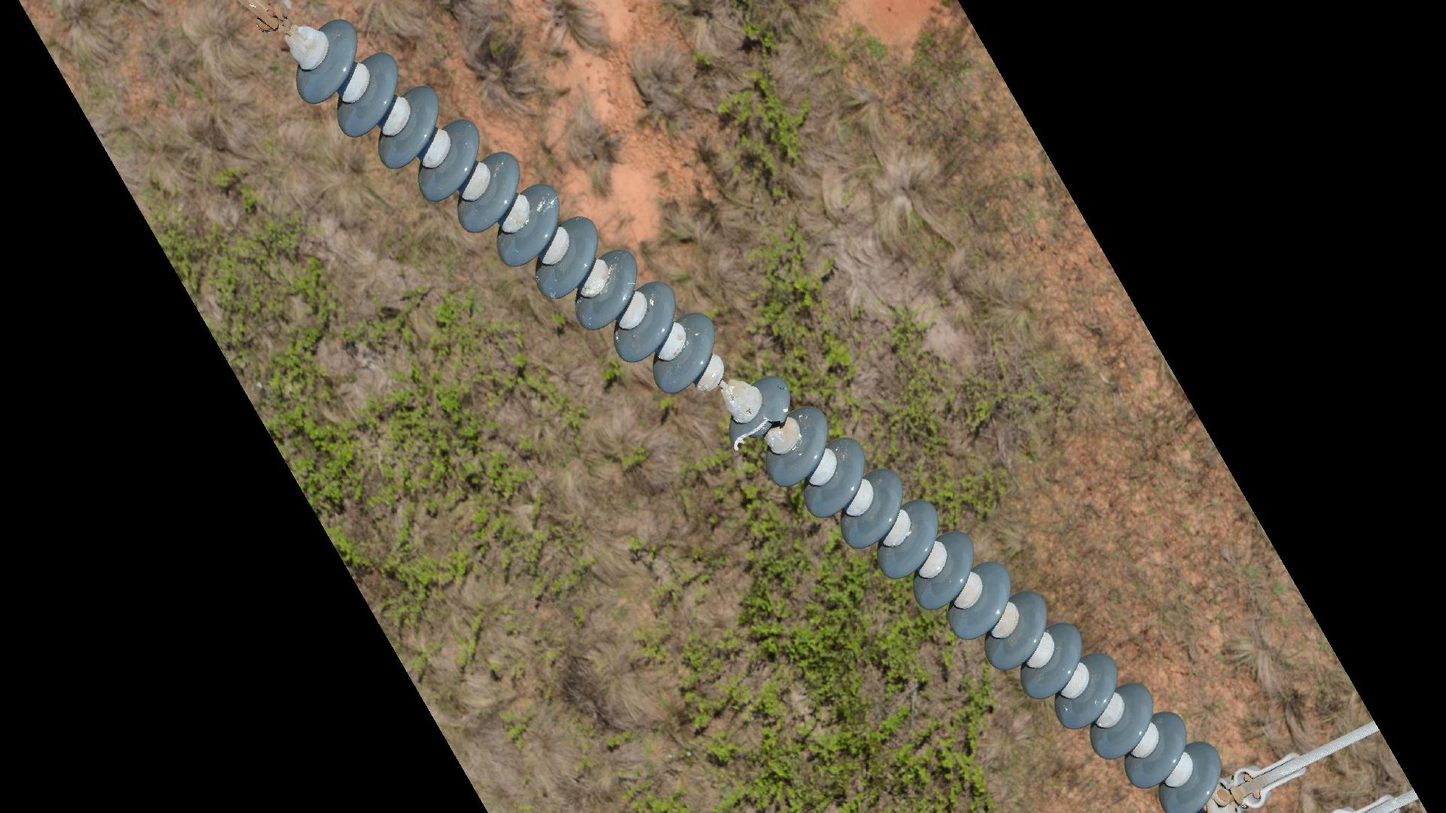insulator: (290, 12, 1227, 813)
insulator_breakage: (728, 407, 786, 453)
